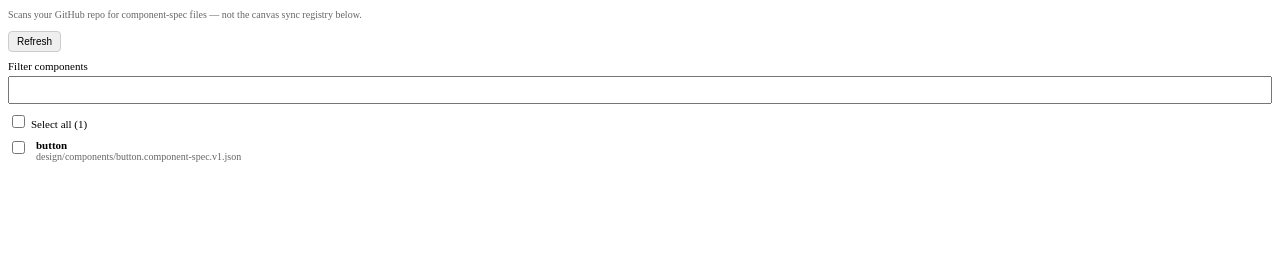
Test case: CatalogPanel › shows batch error list when result includes failures
The width and height of the screenshot is (1280, 258).
Click the checkbox named "Select button".
click(18, 147)  # box [12,140,25,154]
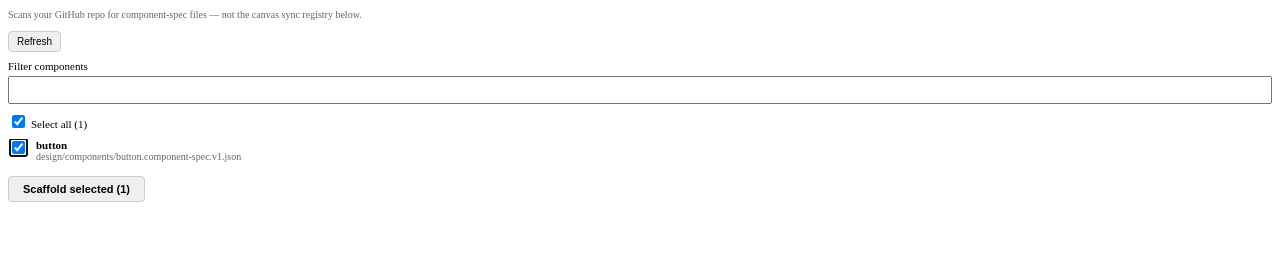
Click the button "Scaffold selected (1)".
click(76, 188)  # box [8,176,145,202]
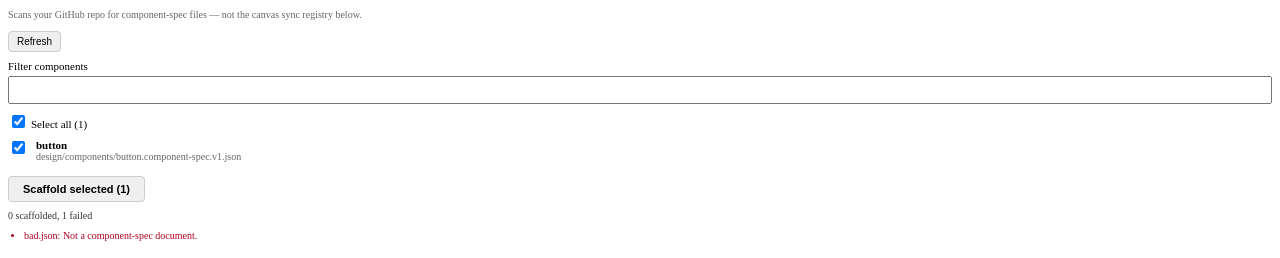
Check: the list item "bad.json: Not a component-spec document." is shown, box [24,230,197,240]
